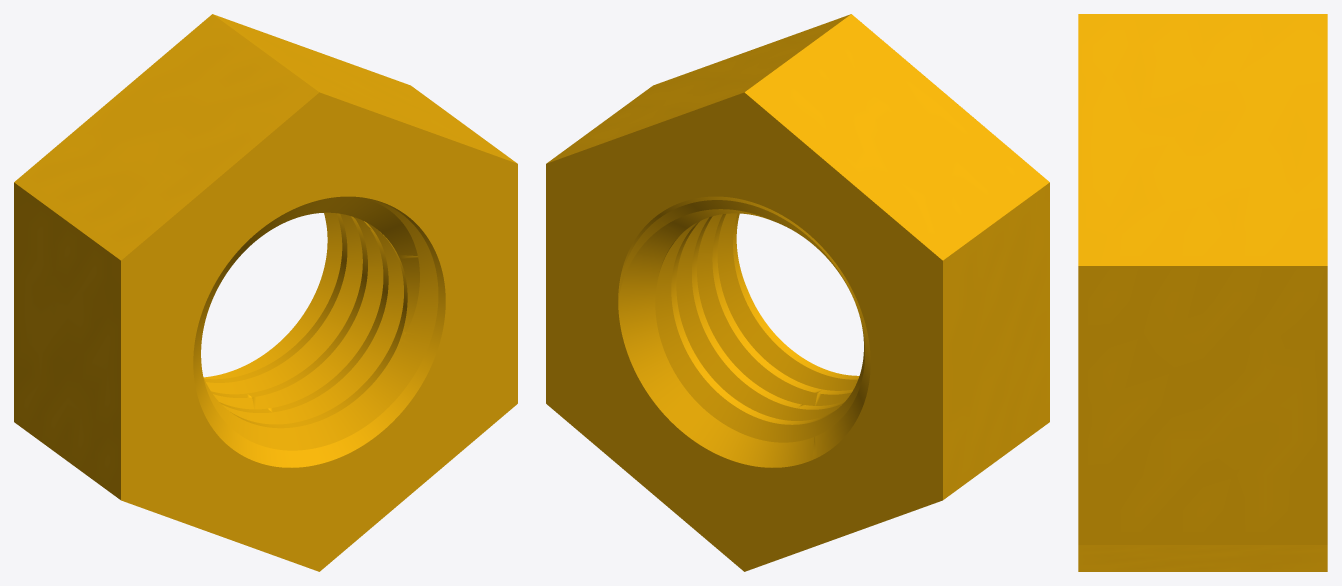
The model's file is nut5.obj.
3 renders of one model, left to right at view 1: azimuth 30°, elevation 25°; view 2: azimuth 150°, elevation 25°; view 3: azimuth 270°, elevation 25°, orthographic. The views are drawn at different scales.
Parts seen in each view (by area): view 1: mesh5.001, mesh12.001, mesh7.001, mesh1.001, mesh3.001, mesh11.001, mesh2.001; view 2: mesh6.001, mesh12.001, mesh7.001, mesh0.001, mesh4.001, mesh11.001, mesh2.001; view 3: mesh10.001, mesh11.001, mesh9.001.
Part boxes in pixels (x1,y1,x2,y2): mesh5.001: (121, 92, 517, 571); mesh12.001: (14, 14, 319, 260); mesh7.001: (14, 182, 120, 499); mesh1.001: (203, 197, 438, 450); mesh3.001: (193, 196, 445, 467); mesh11.001: (213, 14, 516, 163); mesh2.001: (204, 213, 407, 428); mesh6.001: (546, 92, 942, 571); mesh12.001: (744, 14, 1049, 260); mesh7.001: (943, 182, 1049, 499); mesh0.001: (618, 200, 864, 442); mesh4.001: (618, 196, 870, 467); mesh11.001: (547, 14, 850, 163); mesh2.001: (658, 213, 859, 424); mesh10.001: (1078, 266, 1327, 544); mesh11.001: (1078, 14, 1327, 265); mesh9.001: (1078, 545, 1327, 571).
Size of the model in its own units: 0.046 by 0.0531 by 0.0215.
